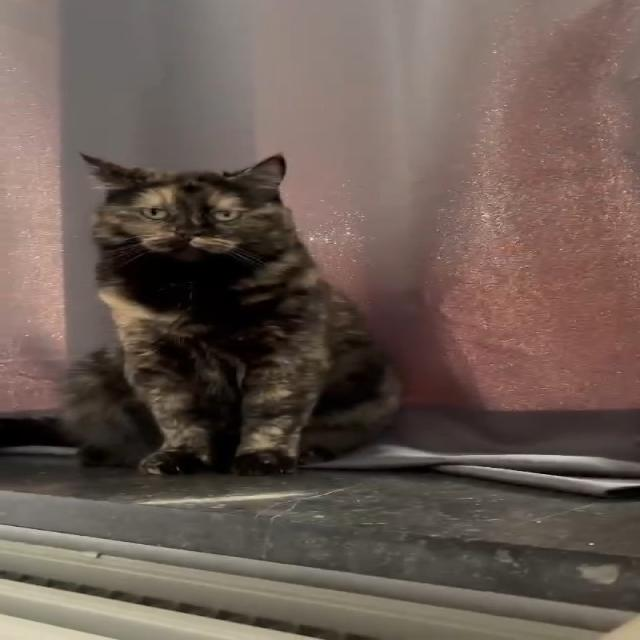authorized: (57, 150, 404, 476)
